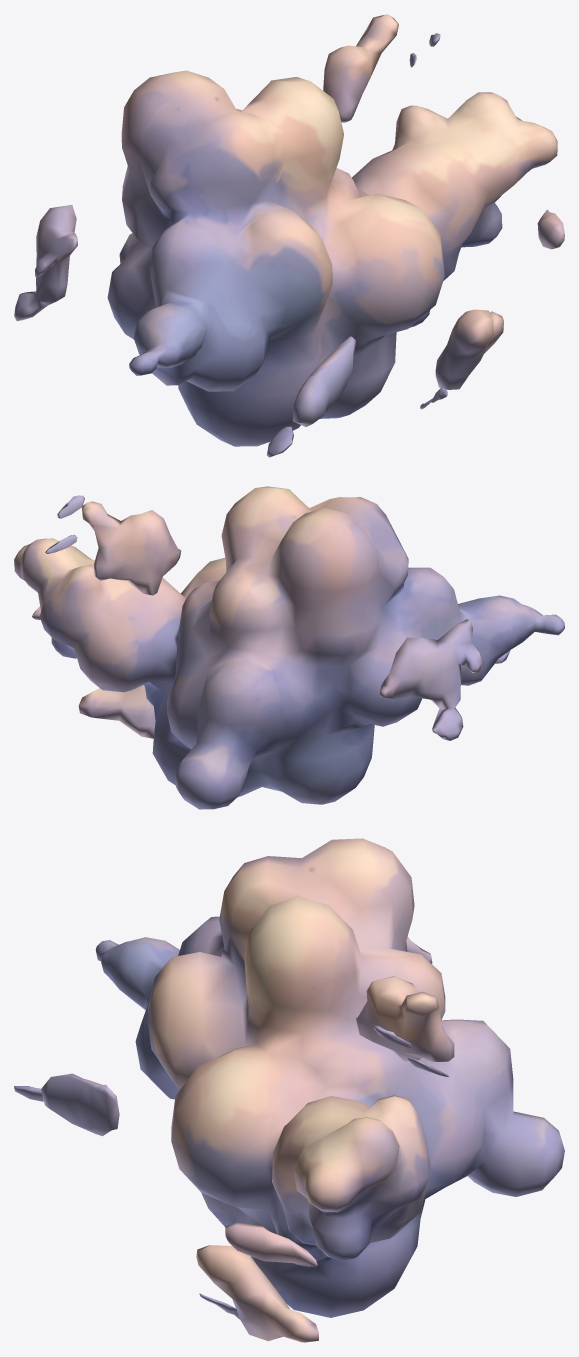
The model's file is SM_Cloud_04.fbx.
3 renders of one model, top to bottom at view 1: azimuth 30°, elevation 25°; view 2: azimuth 150°, elevation 25°; view 3: azimuth 270°, elevation 25°, orthographic. The views are drawn at different scales.
Visible parts, largest first — view 1: SM_Cloud_04; view 2: SM_Cloud_04; view 3: SM_Cloud_04.
Boxes of the visible parts, x1,y1,x2,y2 form: SM_Cloud_04: (14,14,564,457); SM_Cloud_04: (14,486,564,809); SM_Cloud_04: (14,838,564,1342).
Bounding box in the file's own units: 118 × 77.61 × 98.66.
1 material, 1 textured.
